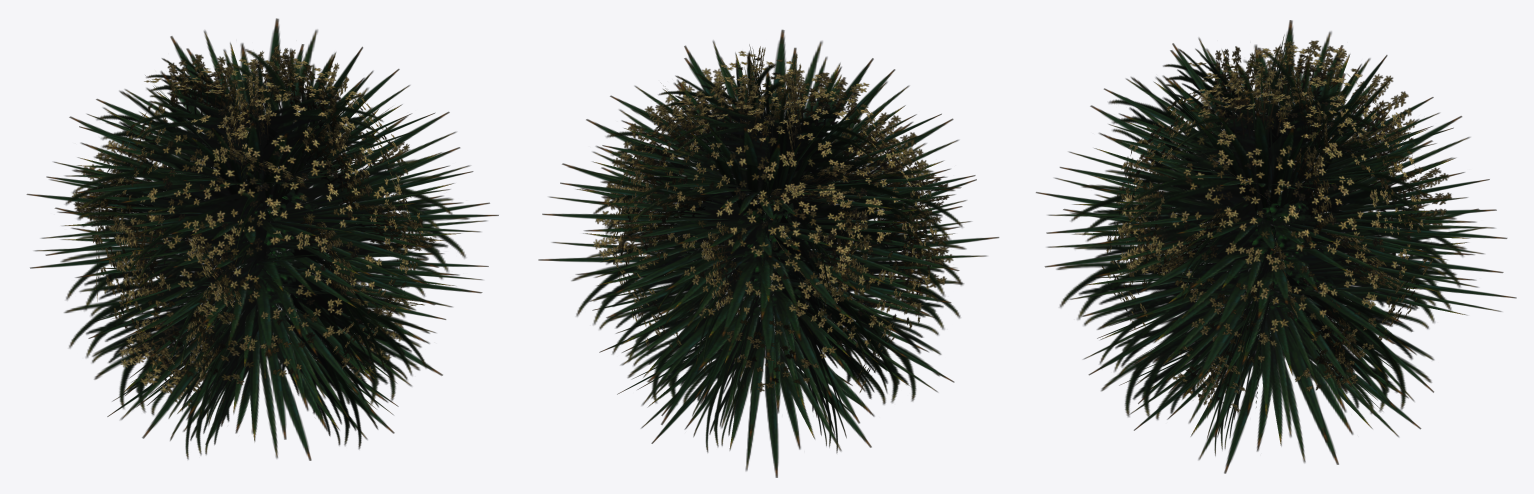
File: Plant_F.glb
3 views of the same model, side by side, from view 1: azimuth 30°, elevation 25°; view 2: azimuth 150°, elevation 25°; view 3: azimuth 270°, elevation 25° (orthographic). The views are drawn at different scales.
Visible parts, largest first — view 1: Plant_F; view 2: Plant_F; view 3: Plant_F.
Boxes of the visible parts, x1,y1,x2,y2 form: Plant_F: [26, 18, 498, 460]; Plant_F: [538, 29, 999, 477]; Plant_F: [1036, 20, 1516, 473].
Size of the model in its own units: 0.842 by 0.7599 by 0.8424.
1 material, 1 textured.
